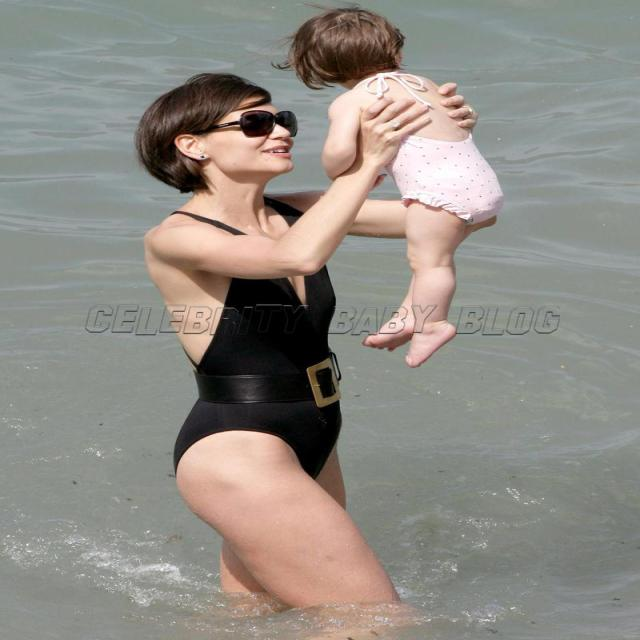no-earmuff: (165, 124, 224, 177)
